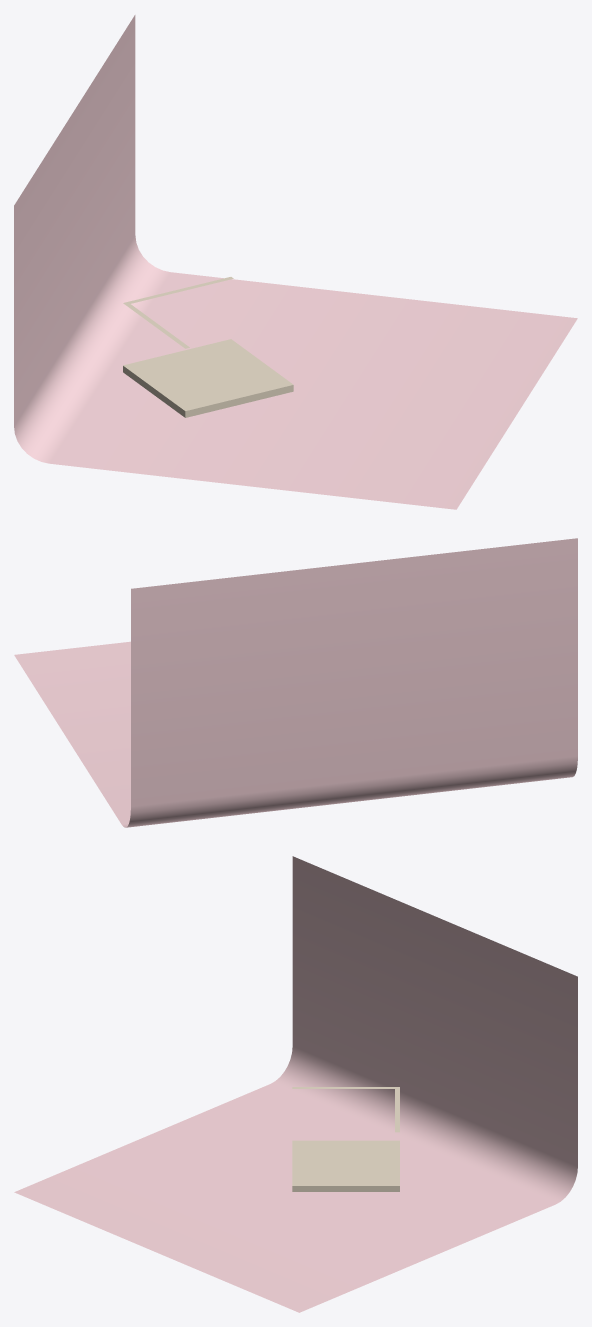
Rendered from Background.fbx.
3 renders of one model, top to bottom at view 1: azimuth 30°, elevation 25°; view 2: azimuth 150°, elevation 25°; view 3: azimuth 270°, elevation 25°, orthographic. The views are drawn at different scales.
Visible parts, largest first — view 1: Plane.002, Cube.001, Cube.028; view 2: Plane.002; view 3: Plane.002, Cube.001.
Part boxes in pixels (x1,y1,x2,y2): Plane.002: [14, 15, 577, 509]; Cube.001: [123, 339, 293, 417]; Cube.028: [123, 277, 233, 348]; Plane.002: [14, 538, 577, 827]; Plane.002: [14, 856, 577, 1312]; Cube.001: [292, 1140, 399, 1191].
Size of the model in its own units: 1048 by 448 by 1048.
